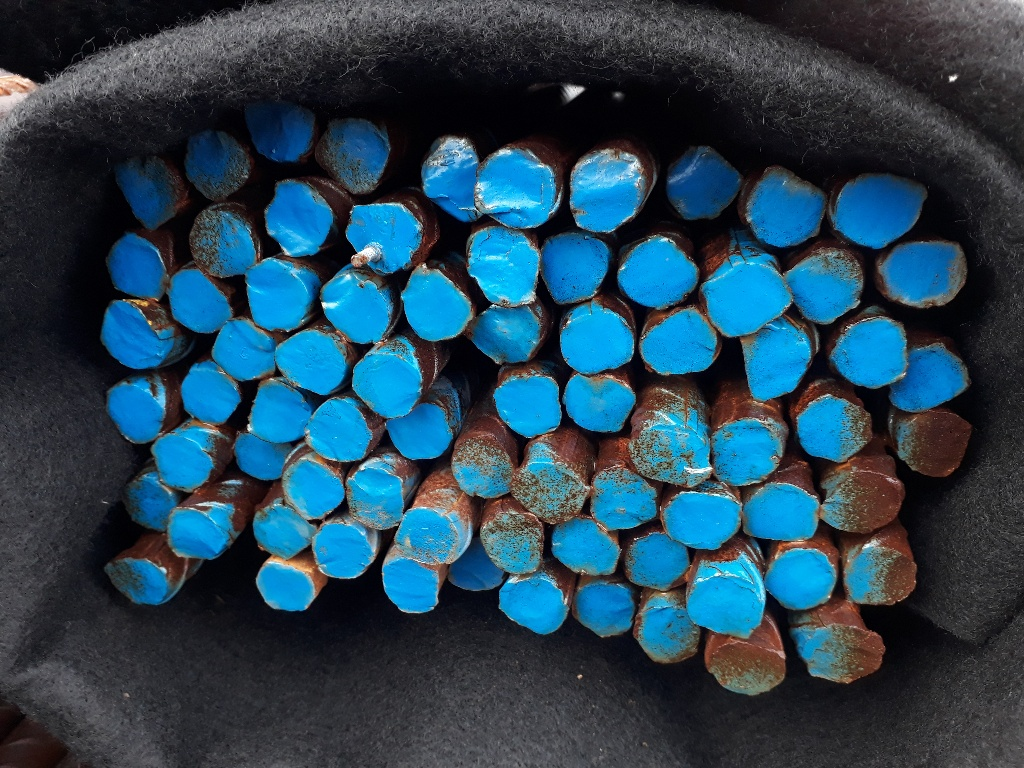dipstick: (834, 176, 926, 247), (750, 166, 828, 247), (478, 150, 555, 229), (572, 150, 643, 231), (619, 237, 697, 310), (708, 263, 789, 333), (630, 420, 711, 488), (320, 116, 390, 194), (401, 266, 471, 341), (471, 229, 540, 305), (115, 154, 187, 225), (671, 148, 741, 221), (268, 180, 333, 257), (346, 203, 420, 270), (640, 311, 717, 375), (423, 136, 480, 222), (821, 473, 904, 532), (796, 397, 873, 460), (321, 275, 391, 343), (562, 310, 634, 376), (790, 254, 860, 321), (804, 625, 885, 682), (712, 419, 783, 484), (893, 346, 965, 410), (838, 320, 905, 387), (746, 326, 806, 400), (190, 211, 258, 276), (188, 129, 249, 201), (275, 332, 346, 393), (901, 411, 967, 476), (101, 302, 165, 369), (768, 548, 837, 610), (690, 579, 763, 637), (543, 235, 606, 302), (664, 491, 739, 547), (708, 641, 785, 695), (107, 232, 168, 300), (744, 485, 818, 541), (513, 462, 583, 521), (845, 547, 916, 605), (247, 263, 308, 330), (565, 375, 634, 434), (496, 376, 560, 438), (591, 466, 656, 527), (354, 355, 421, 413), (384, 404, 453, 459), (495, 578, 565, 632), (306, 401, 370, 460), (168, 270, 228, 331), (247, 101, 312, 157), (483, 512, 541, 574), (551, 520, 620, 572), (638, 604, 697, 663), (105, 382, 162, 441), (215, 323, 275, 379), (628, 535, 689, 590), (184, 364, 239, 424), (476, 309, 537, 363), (103, 557, 168, 607), (250, 384, 307, 441), (313, 523, 371, 579), (253, 506, 313, 559), (153, 435, 209, 491), (348, 470, 402, 527), (395, 507, 453, 560), (575, 583, 635, 634), (455, 444, 511, 498), (383, 559, 437, 613), (284, 464, 343, 513), (169, 509, 224, 559), (231, 432, 284, 482), (256, 566, 312, 610), (125, 478, 173, 529), (452, 562, 500, 591)
